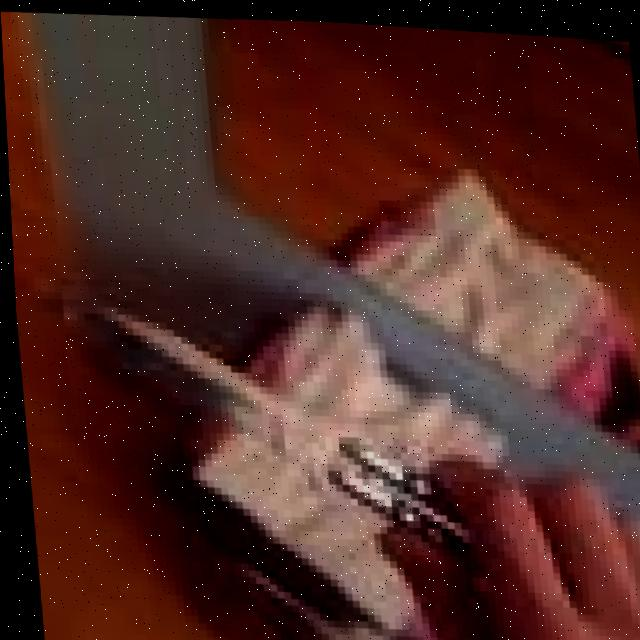knife: (80, 274, 475, 561)
